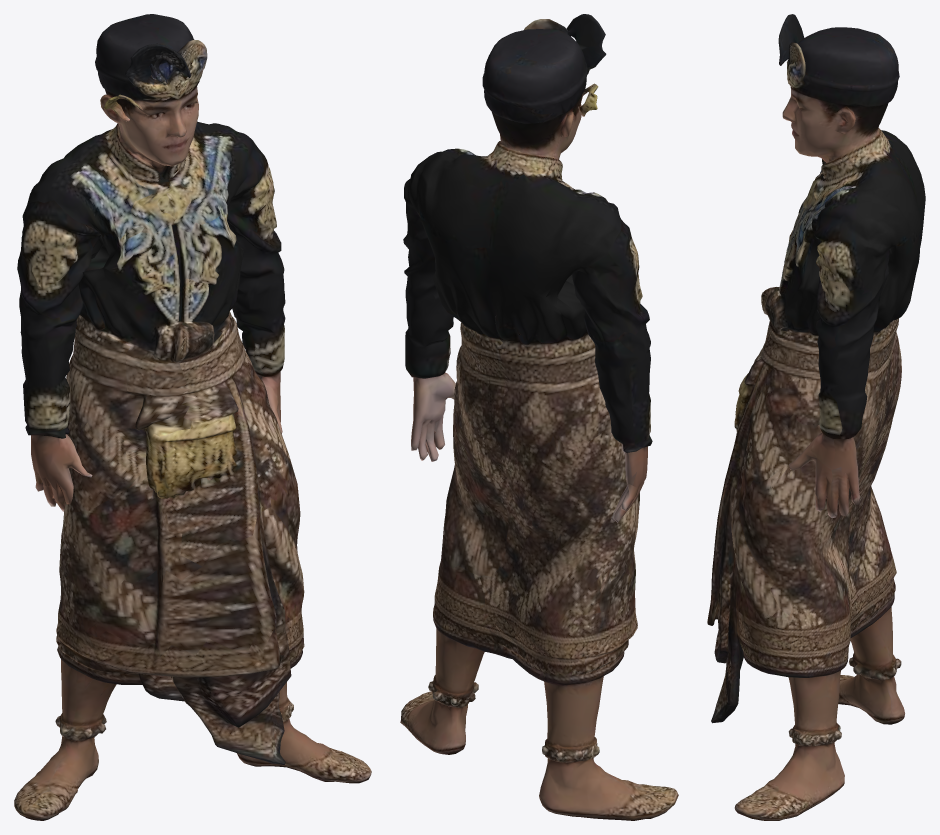
Rendered from penari_beleganjur_idle.glb.
3 views of the same model, side by side, from view 1: azimuth 30°, elevation 25°; view 2: azimuth 150°, elevation 25°; view 3: azimuth 270°, elevation 25° (orthographic). The views are drawn at different scales.
Parts seen in each view (by area): view 1: tripo_node_4a759349-2f98-44d9-b91e-205cc9b90263; view 2: tripo_node_4a759349-2f98-44d9-b91e-205cc9b90263; view 3: tripo_node_4a759349-2f98-44d9-b91e-205cc9b90263.
Boxes of the visible parts, left/top/right/bottom form: tripo_node_4a759349-2f98-44d9-b91e-205cc9b90263: left=14, top=14, right=371, bottom=820; tripo_node_4a759349-2f98-44d9-b91e-205cc9b90263: left=400, top=14, right=678, bottom=820; tripo_node_4a759349-2f98-44d9-b91e-205cc9b90263: left=707, top=14, right=925, bottom=820.
Size of the model in its own units: 41.2 by 98.88 by 27.18.
Materials: 1 (1 with a texture image).
